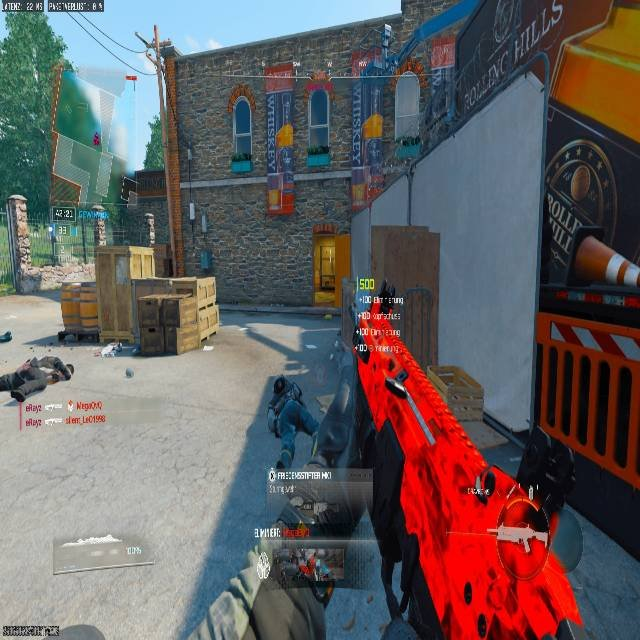head: (280, 376, 304, 403), (61, 364, 74, 379)
player: (265, 375, 319, 476)
